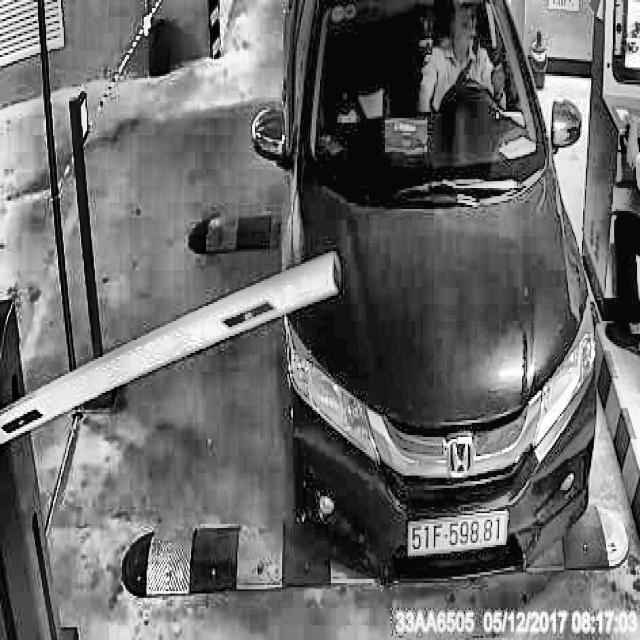plate: (406, 506, 511, 562)
